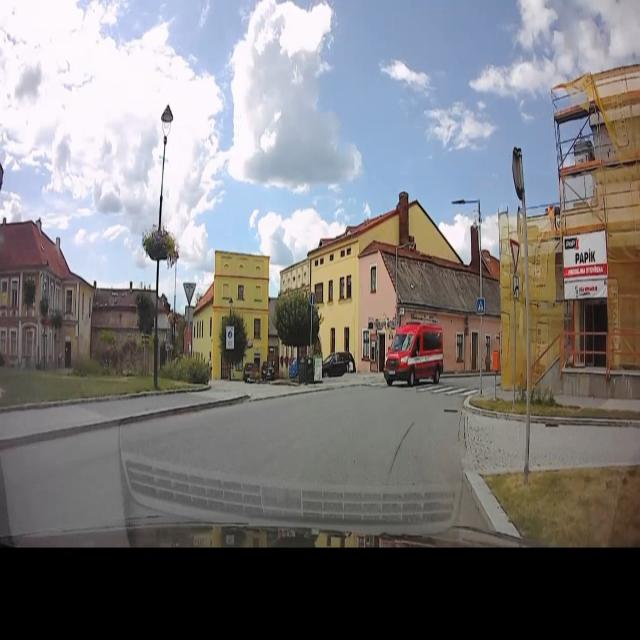Pedestrian crosswalk: (370, 377, 482, 398), (477, 297, 485, 317)
